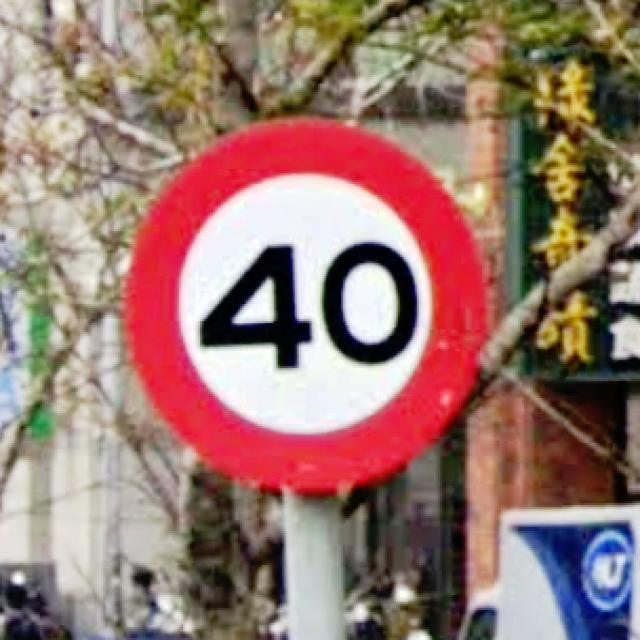max40: (120, 112, 493, 494)
